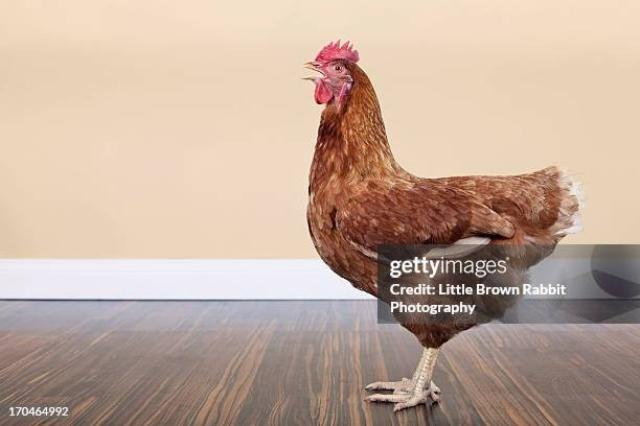Chicken: (300, 38, 583, 410)
